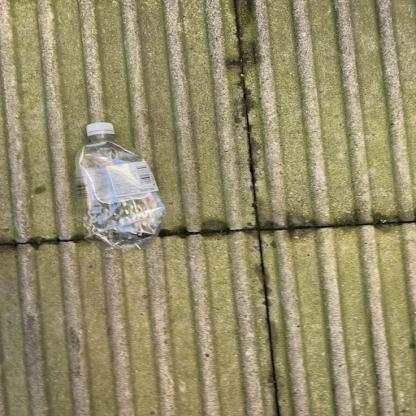trash: (68, 121, 166, 256)
